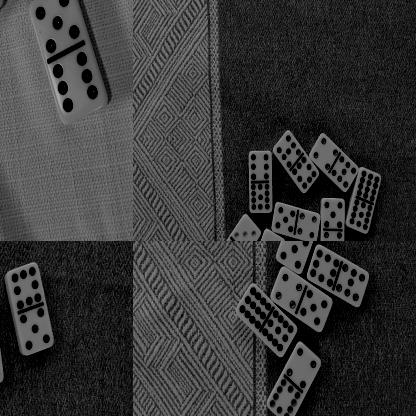pip-1: (259, 229, 286, 241)
pip-11: (263, 310, 298, 358), (346, 199, 374, 236), (249, 182, 273, 213)
pip-12: (236, 285, 272, 330), (358, 169, 382, 203)
pip-3: (234, 214, 261, 241)
pip-4: (287, 342, 322, 391), (271, 267, 303, 311), (310, 134, 338, 172), (298, 211, 321, 241)
pip-5: (30, 0, 83, 55), (20, 309, 55, 356), (300, 290, 333, 333), (276, 241, 309, 274), (272, 202, 297, 237), (322, 198, 346, 231)
pip-6: (53, 51, 109, 124), (248, 151, 272, 184)
pip-7: (336, 264, 369, 308), (274, 131, 302, 170), (332, 156, 359, 194)
pip-8: (6, 263, 42, 310), (308, 246, 340, 286), (293, 156, 320, 195)
